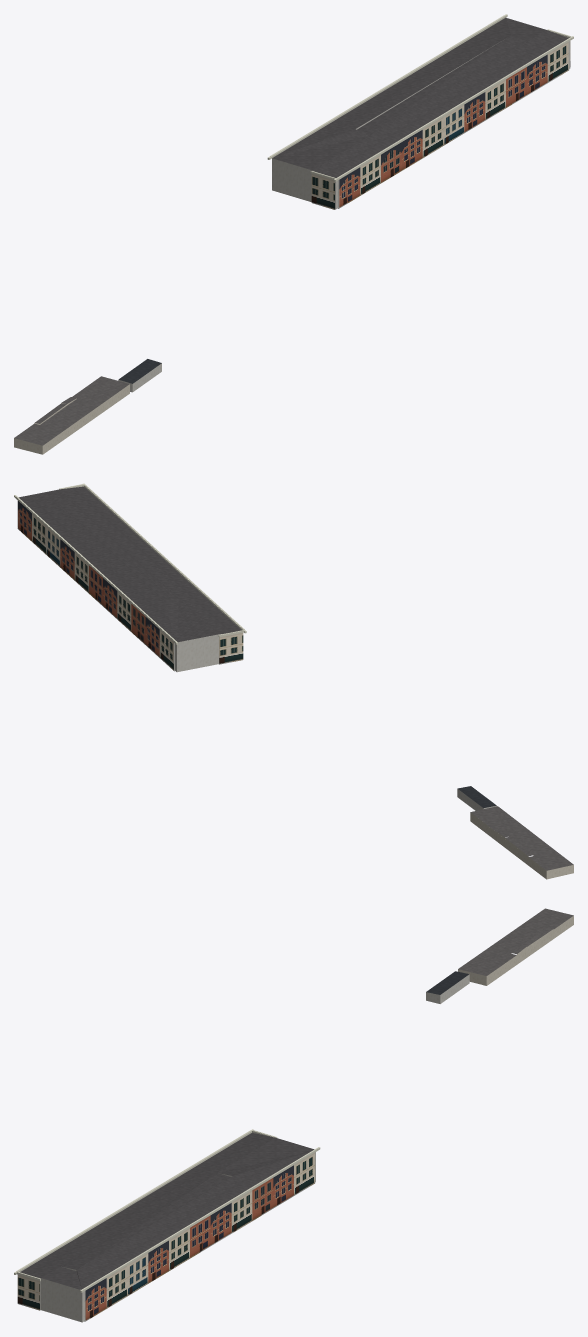
The picture shows the model from 3 angles, top to bottom: view 1: azimuth 90°, elevation 25°; view 2: azimuth 150°, elevation 25°; view 3: azimuth 270°, elevation 25°; orthographic projection. The views are drawn at different scales.
Visible parts, largest first — view 1: bldg_6008332029_roof, bldg_6008332029_facade1, bldg_6008332028_roof, bldg_6008332029, bldg_6008332028, bldg_6008332029_facade3, bldg_6008332029_facade2; view 2: bldg_6008332029_roof, bldg_6008332029_facade3, bldg_6008332028_roof, bldg_6008332029, bldg_6008332028, bldg_6008332029_facade2, bldg_6008332029_facade1; view 3: bldg_6008332029_roof, bldg_6008332029_facade3, bldg_6008332028_roof, bldg_6008332029, bldg_6008332028, bldg_6008332029_facade1, bldg_6008332029_facade0.
Boxes of the visible parts, x1,y1,x2,y2 form: bldg_6008332029_roof: (272, 17, 568, 177); bldg_6008332029_facade1: (334, 36, 573, 208); bldg_6008332028_roof: (14, 376, 129, 445); bldg_6008332029: (272, 41, 569, 209); bldg_6008332028: (14, 384, 129, 454); bldg_6008332029_facade3: (267, 14, 507, 159); bldg_6008332029_facade2: (310, 171, 335, 209); bldg_6008332029_roof: (19, 486, 241, 642); bldg_6008332029_facade3: (14, 495, 177, 671); bldg_6008332028_roof: (470, 806, 573, 870); bldg_6008332029: (17, 500, 222, 672); bldg_6008332028: (470, 812, 573, 879); bldg_6008332029_facade2: (218, 630, 244, 664); bldg_6008332029_facade1: (83, 483, 246, 633); bldg_6008332029_roof: (20, 1132, 314, 1289); bldg_6008332029_facade3: (80, 1147, 320, 1321); bldg_6008332028_roof: (458, 908, 573, 975); bldg_6008332029: (37, 1152, 315, 1322); bldg_6008332028: (458, 916, 573, 985); bldg_6008332029_facade1: (14, 1129, 253, 1274); bldg_6008332029_facade0: (16, 1271, 40, 1310).
Bounding box in the file's own units: 170 × 6.58 × 98.75.
Materials: 8 (6 with a texture image).
